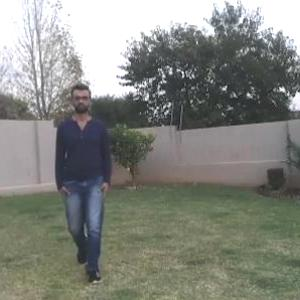follow: (57, 92, 112, 260)
